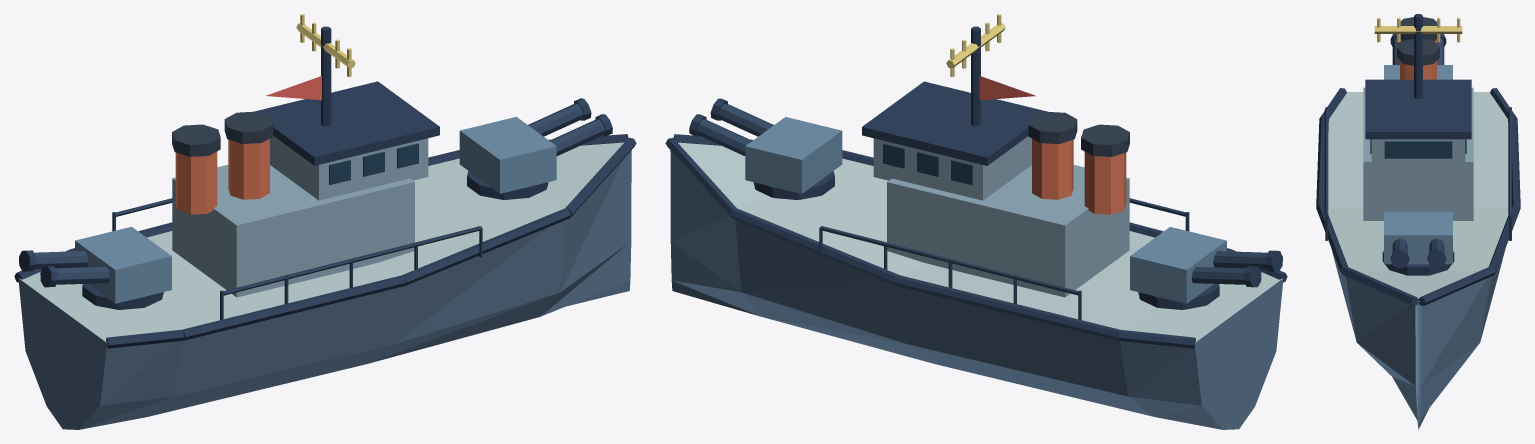
Rendered from boat-battleship.glb.
3 renders of one model, left to right at view 1: azimuth 30°, elevation 25°; view 2: azimuth 150°, elevation 25°; view 3: azimuth 270°, elevation 25°, orthographic. The views are drawn at different scales.
Parts seen in each view (by area): view 1: hull, superstructure, edge, deck, turret, funnel, barrel, funnel_cap, window, radar, flag; view 2: hull, superstructure, edge, deck, turret, funnel, barrel, funnel_cap, window, radar, flag; view 3: deck, edge, hull, superstructure, turret, window, funnel_cap, radar, barrel, funnel.
Part boxes in pixels (left/top/right/bottom): hull: left=18, top=150, right=631, bottom=429; superstructure: left=172, top=136, right=428, bottom=297; edge: left=14, top=26, right=636, bottom=348; deck: left=19, top=142, right=623, bottom=342; turret: left=75, top=116, right=556, bottom=303; funnel: left=175, top=138, right=269, bottom=214; barrel: left=34, top=103, right=605, bottom=284; funnel_cap: left=172, top=111, right=273, bottom=156; window: left=329, top=143, right=418, bottom=184; radar: left=296, top=14, right=355, bottom=76; flag: left=266, top=76, right=321, bottom=100; hull: left=670, top=150, right=1283, bottom=429; superstructure: left=873, top=136, right=1129, bottom=297; edge: left=665, top=26, right=1287, bottom=348; deck: left=678, top=142, right=1282, bottom=342; turret: left=745, top=117, right=1226, bottom=303; funnel: left=1032, top=139, right=1126, bottom=214; barrel: left=696, top=103, right=1267, bottom=284; funnel_cap: left=1028, top=111, right=1129, bottom=156; window: left=883, top=143, right=972, bottom=184; radar: left=946, top=14, right=1005, bottom=76; flag: left=979, top=76, right=1035, bottom=100; deck: left=1328, top=92, right=1508, bottom=301; edge: left=1316, top=14, right=1520, bottom=305; hull: left=1331, top=249, right=1505, bottom=429; superstructure: left=1363, top=87, right=1473, bottom=220; turret: left=1384, top=65, right=1452, bottom=264; window: left=1370, top=139, right=1466, bottom=158; funnel_cap: left=1397, top=17, right=1439, bottom=65; radar: left=1374, top=17, right=1462, bottom=42; barrel: left=1392, top=38, right=1444, bottom=252; funnel: left=1400, top=39, right=1436, bottom=79.
Size of the model in its own units: 7.4 by 3.97 by 2.56.
